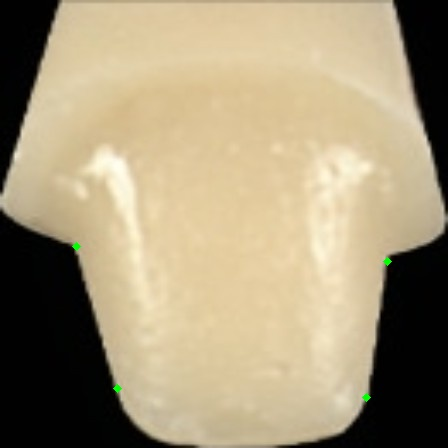coin_1: (387, 261, 407, 281)
coin_2: (366, 397, 386, 417)
coin_3: (76, 246, 96, 266)
coin_4: (117, 388, 137, 408)
